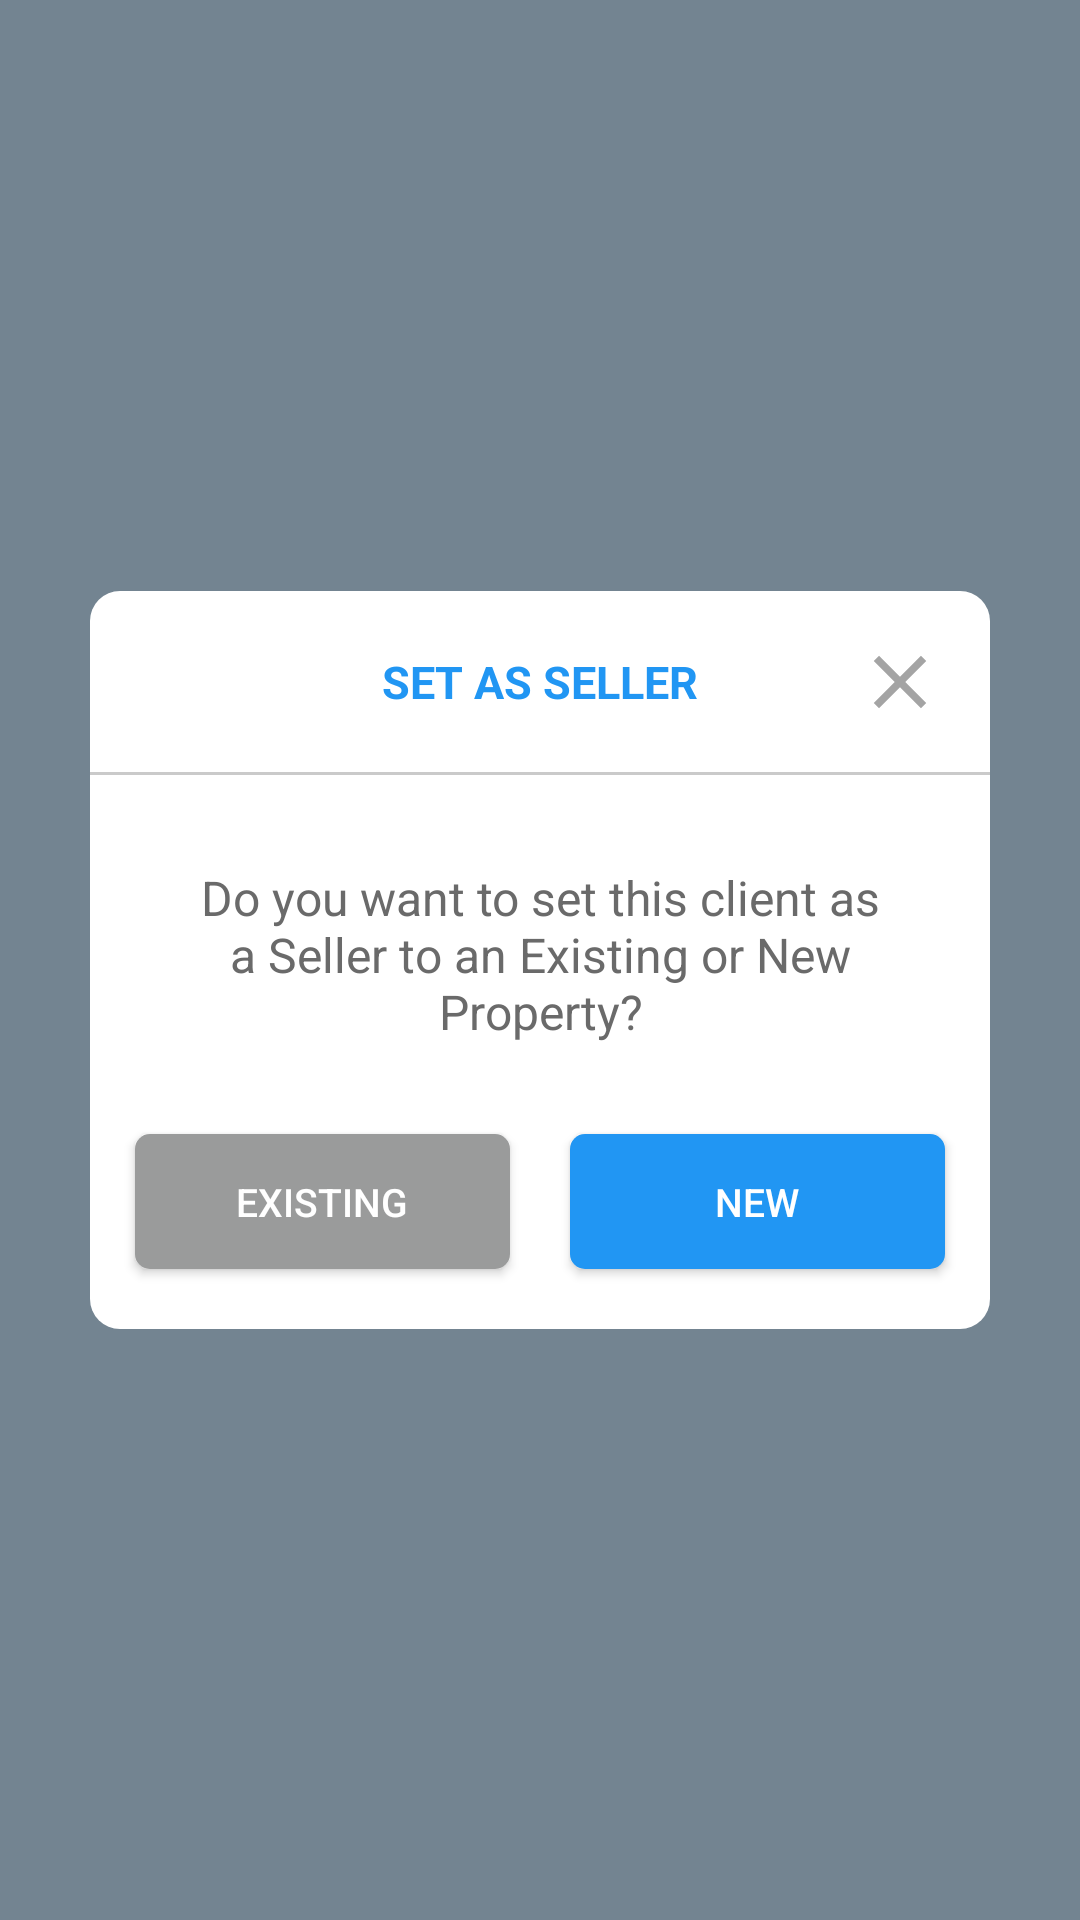

Icon bounding boxes for this 1080 × 1920 phone screenshot, format (x1, y1, x2, y2):
close: (874, 656, 926, 708)
